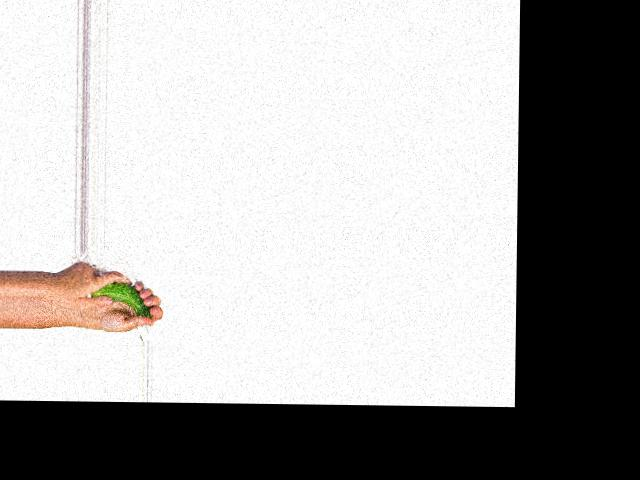cucumber: (89, 280, 152, 317)
